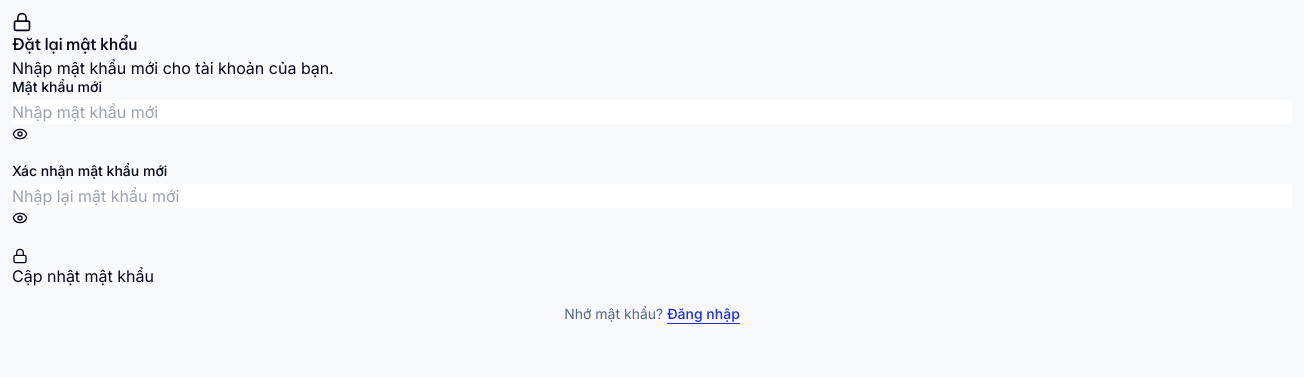
Test: ResetPasswordPage › shows error for missing reset token
The width and height of the screenshot is (1304, 377).
# Fill form and submit to trigger error
Type "password123" into the password field labelled "Mật khẩu mới" at (652, 112), box [12,100,1292,124]
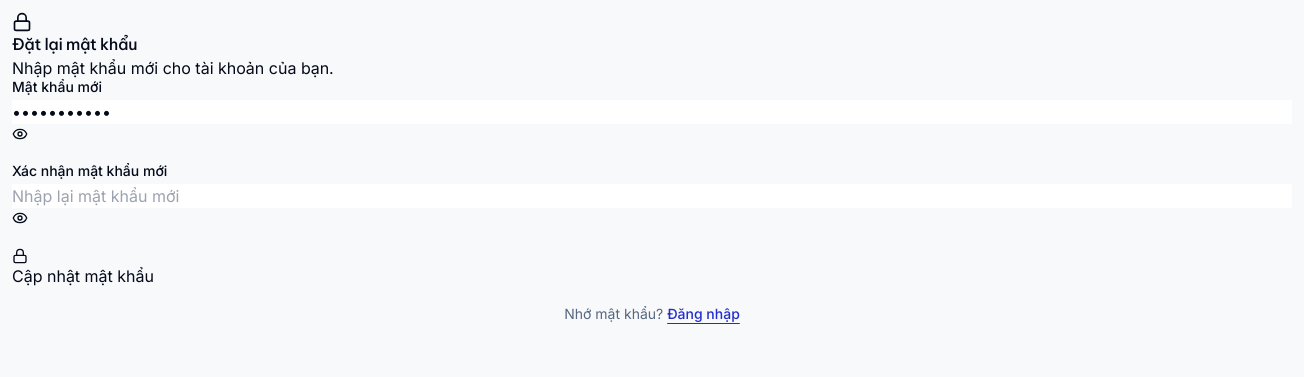
Type "password123" into the password field labelled "Xác nhận mật khẩu mới" at (652, 196), box [12,184,1292,208]
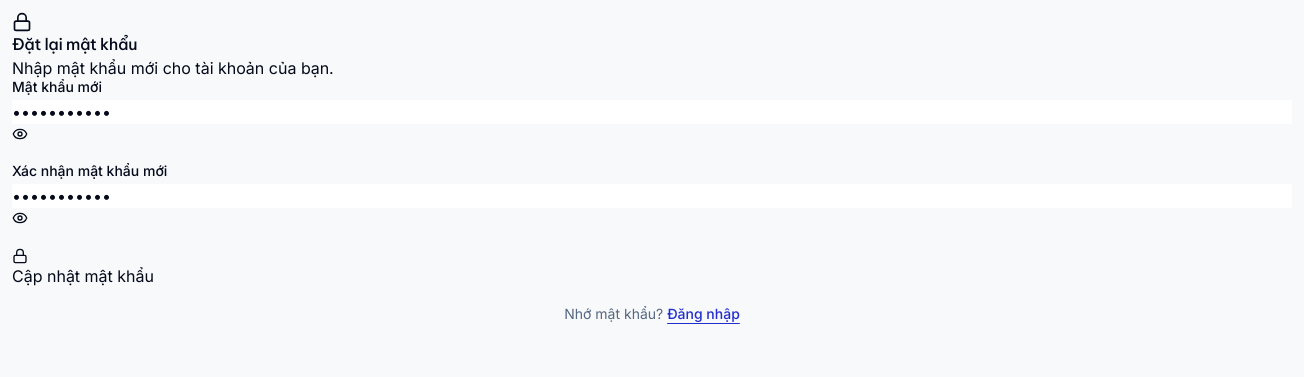
Click the button "Cập nhật mật khẩu" at (83, 268), box [12,248,154,288]
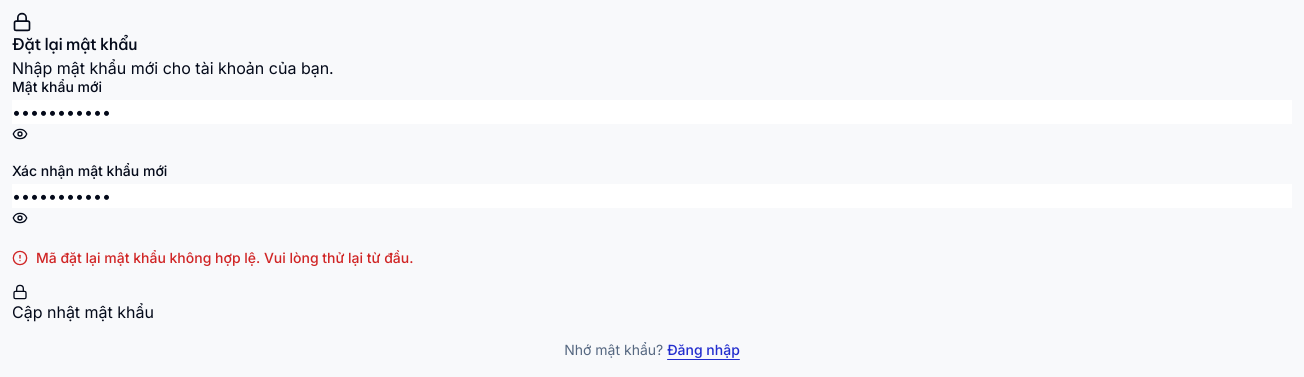
Result: the text "Mã đặt lại mật khẩu không hợp lệ. Vui lòng thử lại từ đầu." is shown at [12,249,414,266]
